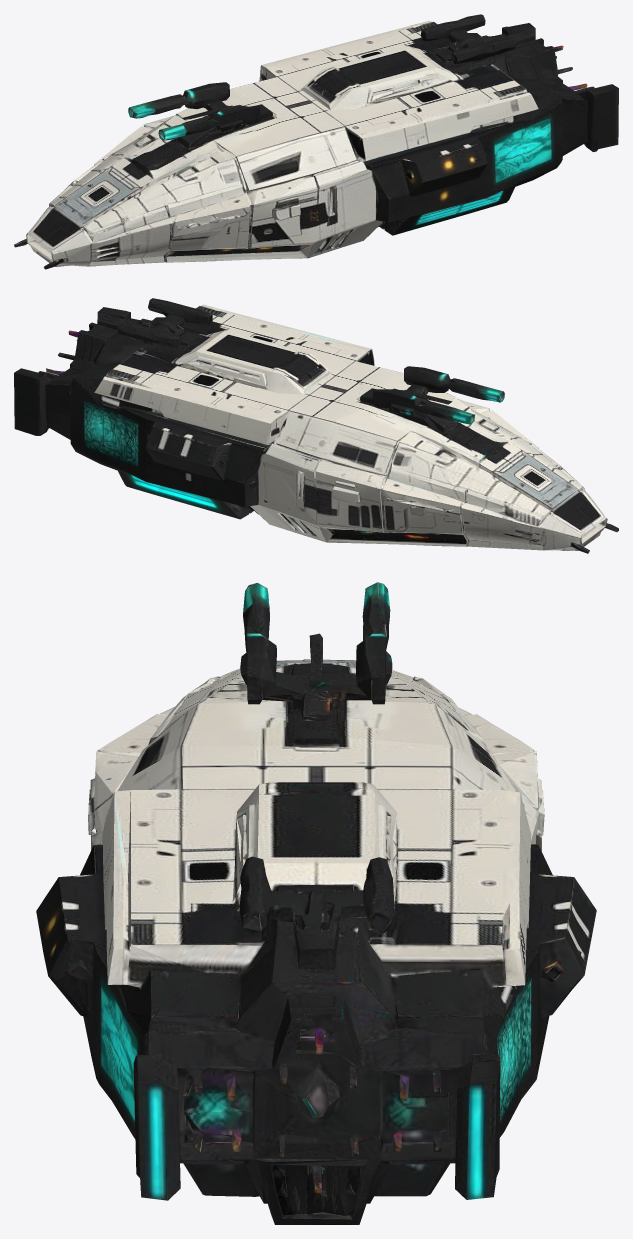
File: vessel-dread.glb
3 views of the same model, one above another, from view 1: azimuth 30°, elevation 25°; view 2: azimuth 150°, elevation 25°; view 3: azimuth 270°, elevation 25° (orthographic). The views are drawn at different scales.
Bounding box in the file's own units: 1.9 × 0.5212 × 0.8453.
Materials: 1 (1 with a texture image).
